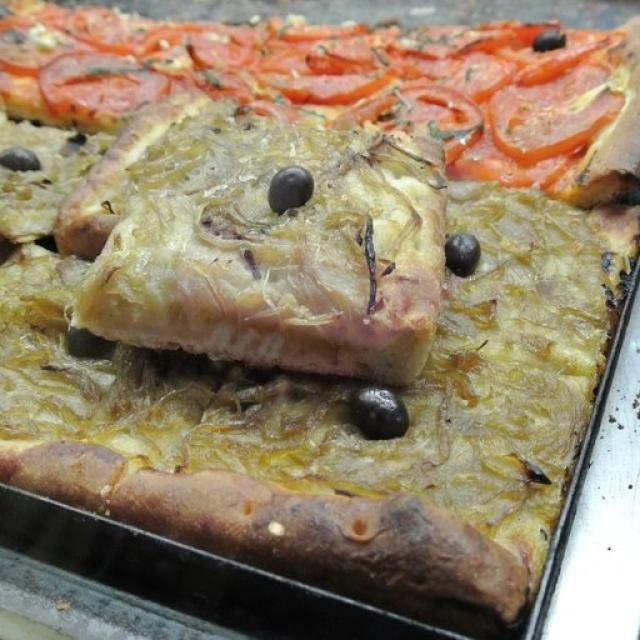Olives: (257, 169, 317, 213), (352, 388, 411, 432), (451, 238, 482, 266), (0, 144, 35, 168)
Pizza: (0, 90, 639, 640), (0, 1, 640, 217)
Tomato: (479, 73, 637, 166), (342, 81, 486, 146), (460, 16, 592, 78), (149, 13, 266, 76), (37, 55, 151, 112), (422, 45, 533, 99), (296, 32, 396, 72), (377, 38, 459, 82), (284, 63, 373, 99), (0, 34, 70, 76)
